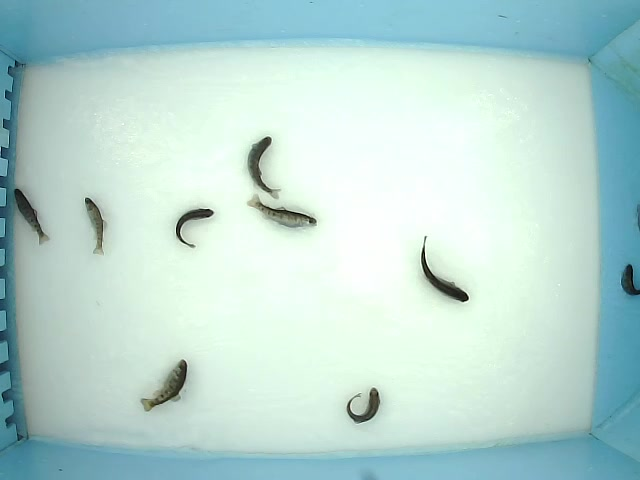fish: (419, 235, 469, 304), (245, 193, 318, 230), (139, 358, 188, 413), (246, 136, 282, 201), (13, 187, 51, 247), (175, 208, 215, 249), (83, 196, 107, 257), (346, 387, 381, 425)
